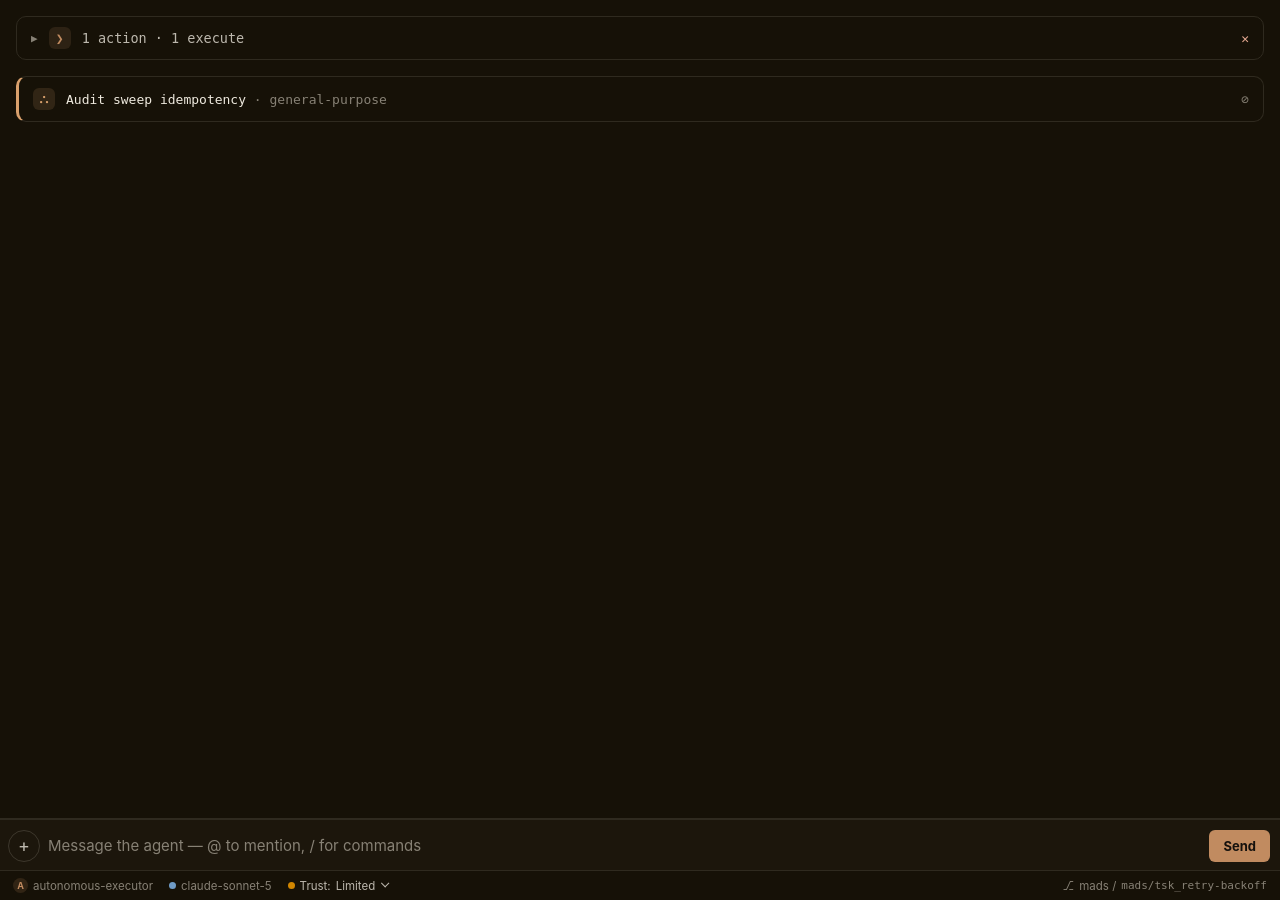
it: ConversationTab — history parity (T17) › replays a long session's log past its first page, without reading every subagent's stream
Expected: the picture "✕" is shown, [1241,32,1249,44]
// The dock reads the subagent's own file, named by its task id.
What coordinates should you click on to do the following:
click the button "⛬ Audit sweep idempotency · general-purpose ⊘"
I would click on:
 (156, 99)
Its box is [19,77,1263,121].
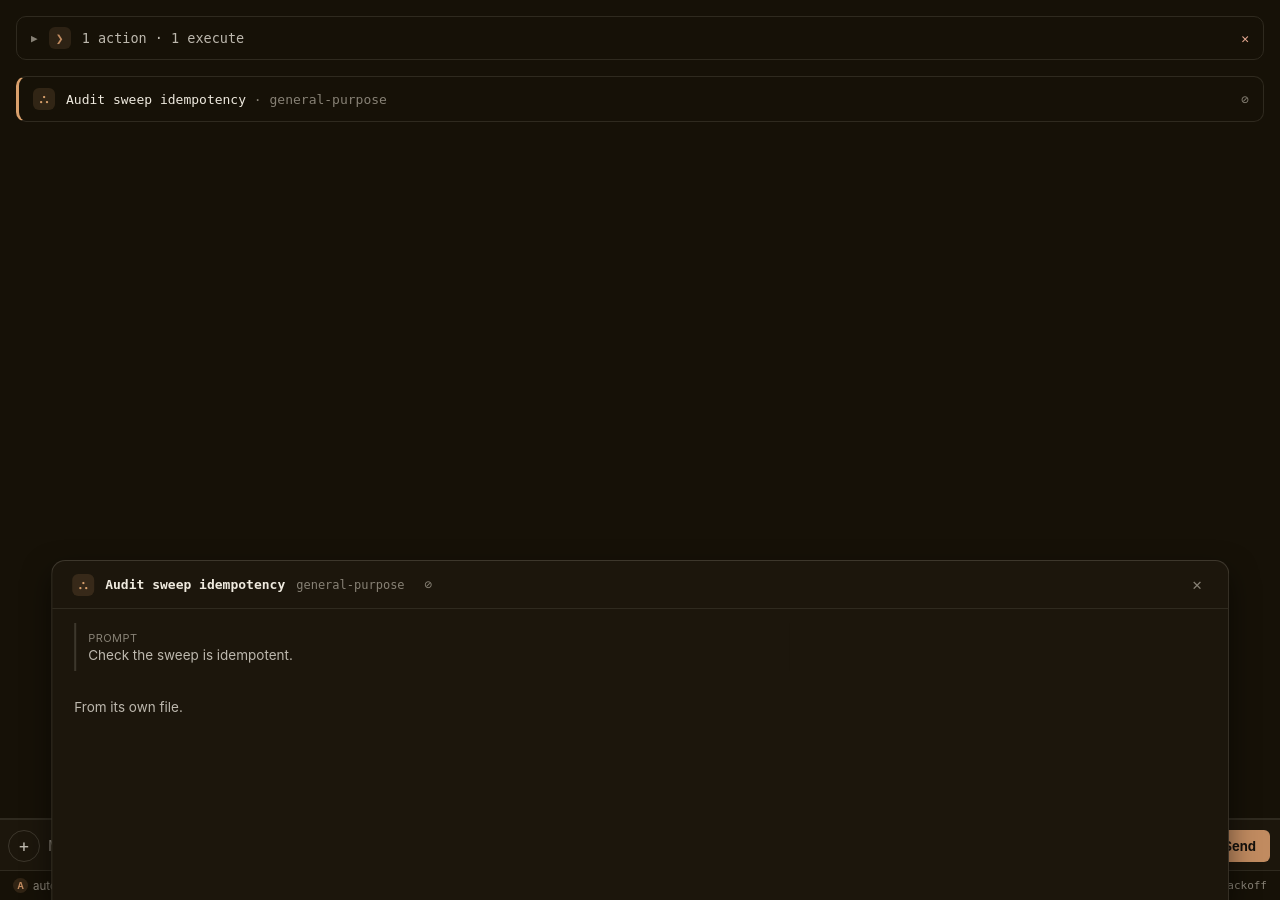
Result: the dialog named "Activity detail" shows "From its own file." at [74,698,183,714]
Result: the dialog named "Activity detail" shows "Check the sweep is idempotent." at [88,647,293,663]
